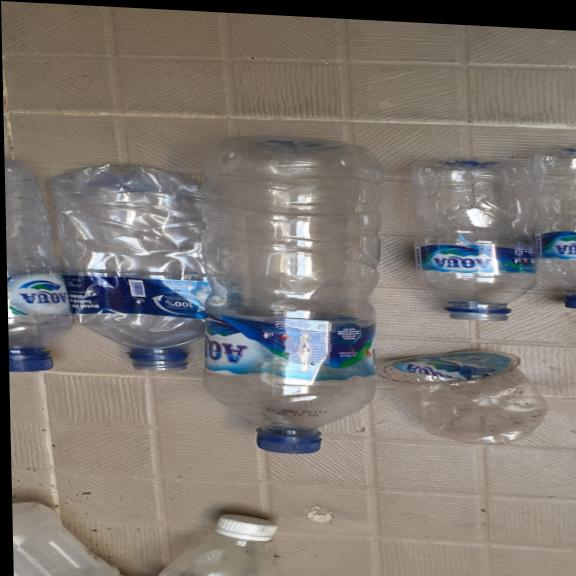Plastik: (199, 130, 379, 458), (43, 157, 208, 374), (401, 152, 545, 326), (4, 161, 67, 374), (148, 505, 298, 576), (11, 495, 137, 576), (539, 141, 576, 312)
